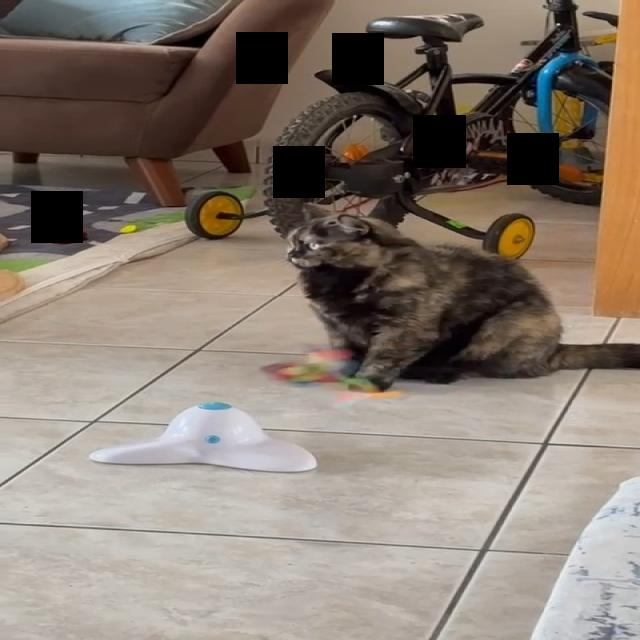authorized: (284, 203, 639, 392)
